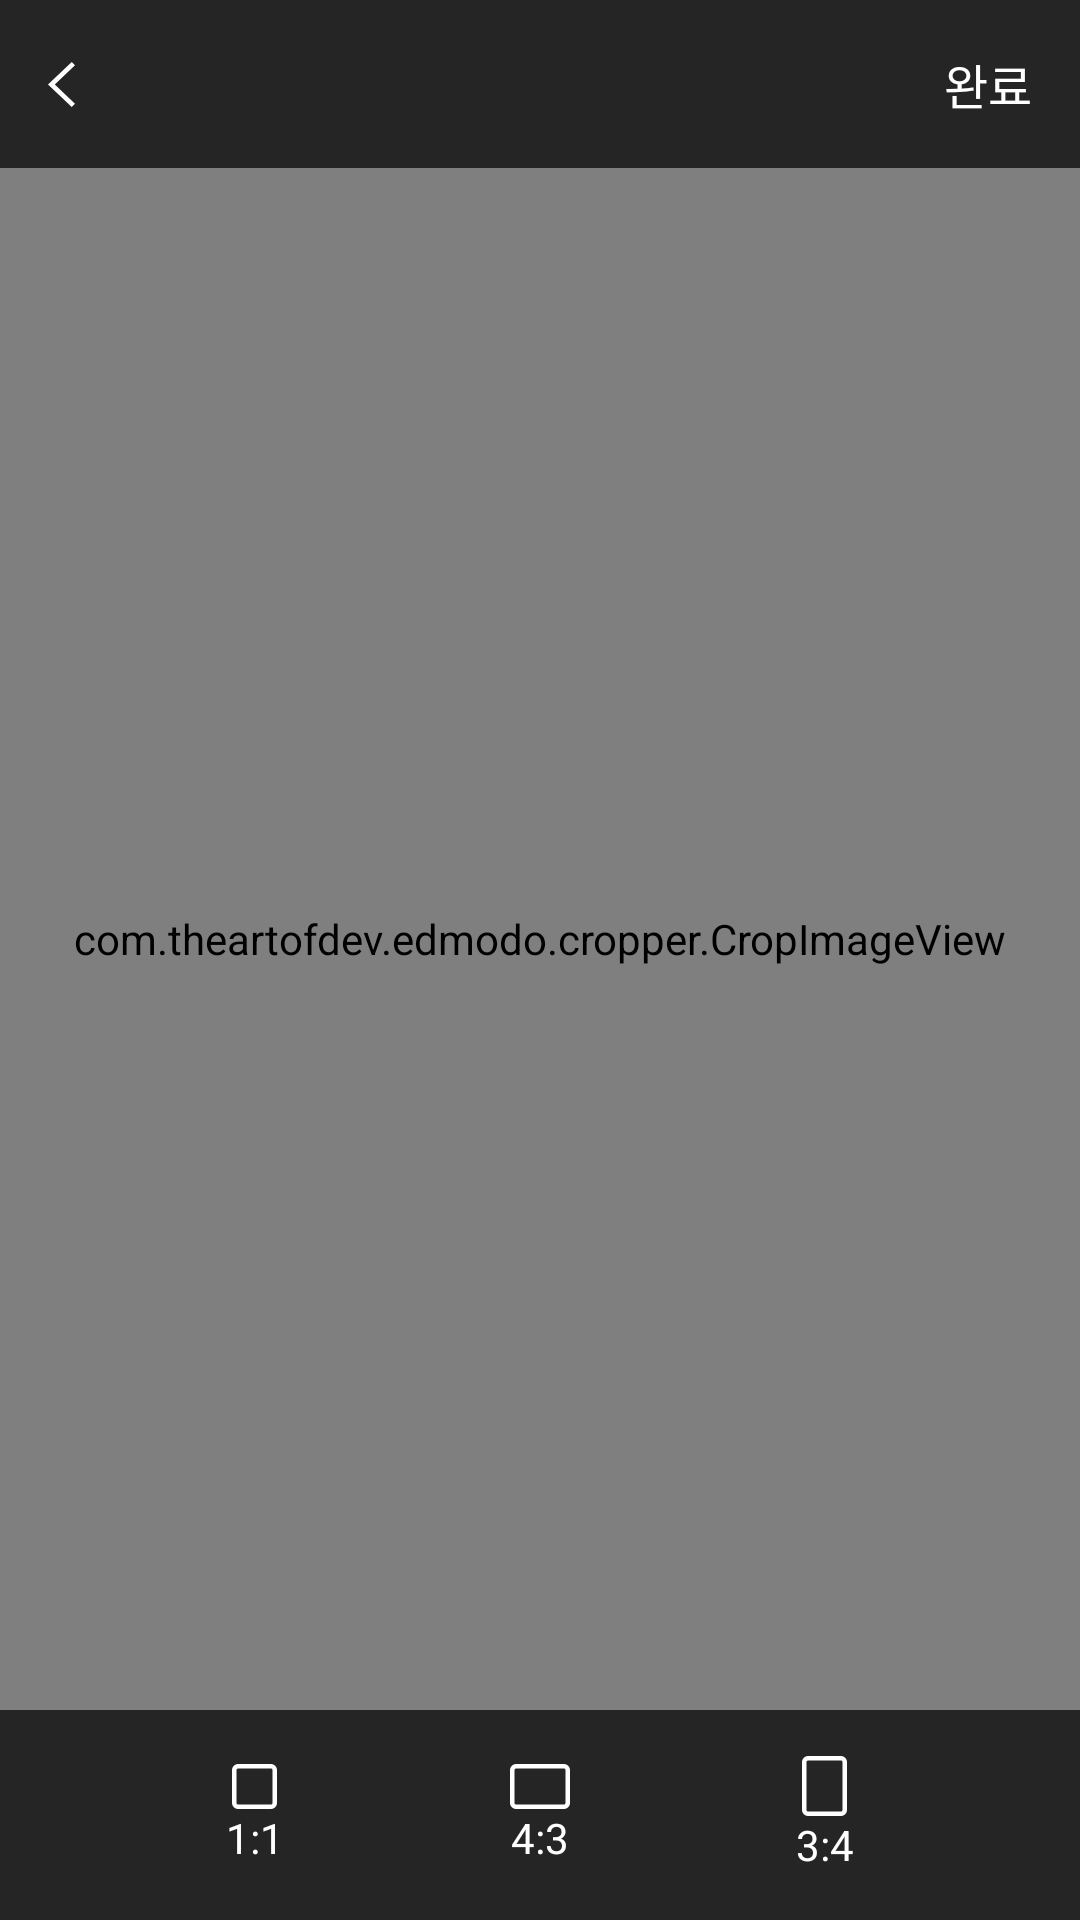

Icon bounding boxes for this 1080px×1920px phone screenshot, format (left=x1, top=y1, right=x2, bottom=y2):
left arrow: (left=48, top=62, right=75, bottom=107)
